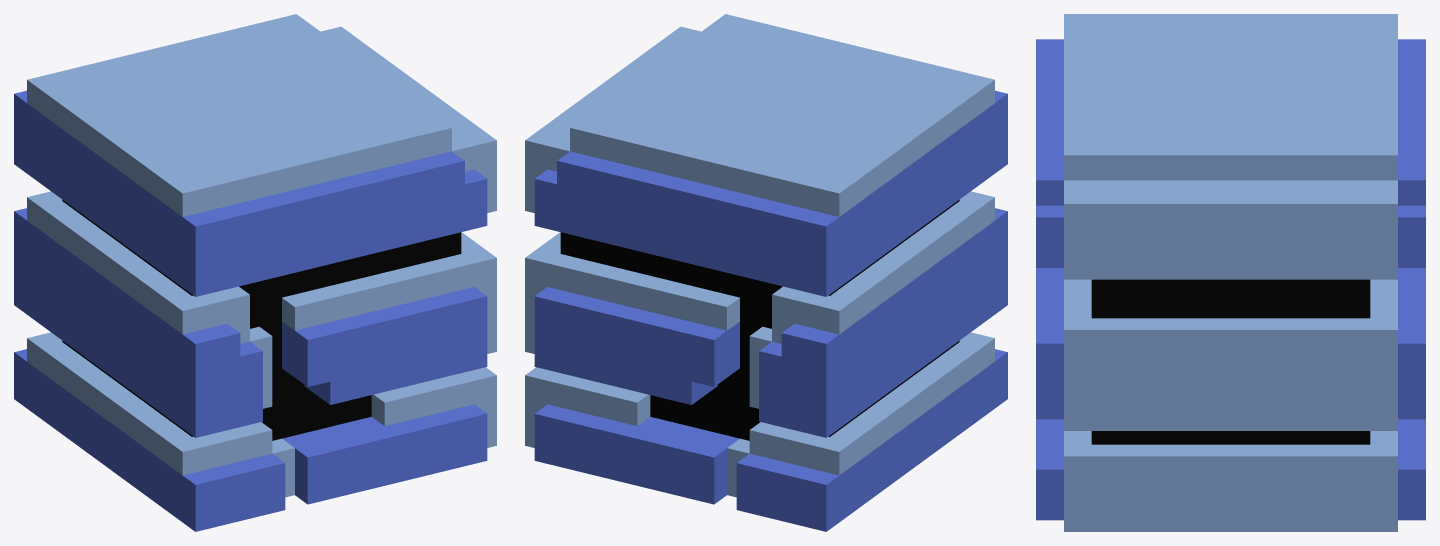
Rendered from br-m-brick-aqua.fbx.
3 views of the same model, side by side, from view 1: azimuth 30°, elevation 25°; view 2: azimuth 150°, elevation 25°; view 3: azimuth 270°, elevation 25° (orthographic). The views are drawn at different scales.
Visible parts, largest first — view 1: shadow, highlight, base; view 2: shadow, highlight, base; view 3: highlight, shadow, base.
Boxes of the visible parts, left/top/right/bottom form: shadow: left=14, top=90, right=487, bottom=531; highlight: left=27, top=14, right=496, bottom=497; base: left=62, top=200, right=461, bottom=440; shadow: left=534, top=90, right=1007, bottom=531; highlight: left=525, top=14, right=994, bottom=497; base: left=560, top=200, right=959, bottom=440; highlight: left=1064, top=14, right=1397, bottom=531; shadow: left=1036, top=39, right=1425, bottom=520; base: left=1091, top=279, right=1370, bottom=444.
Bounding box in the file's own units: 0.875 × 0.875 × 0.875.
